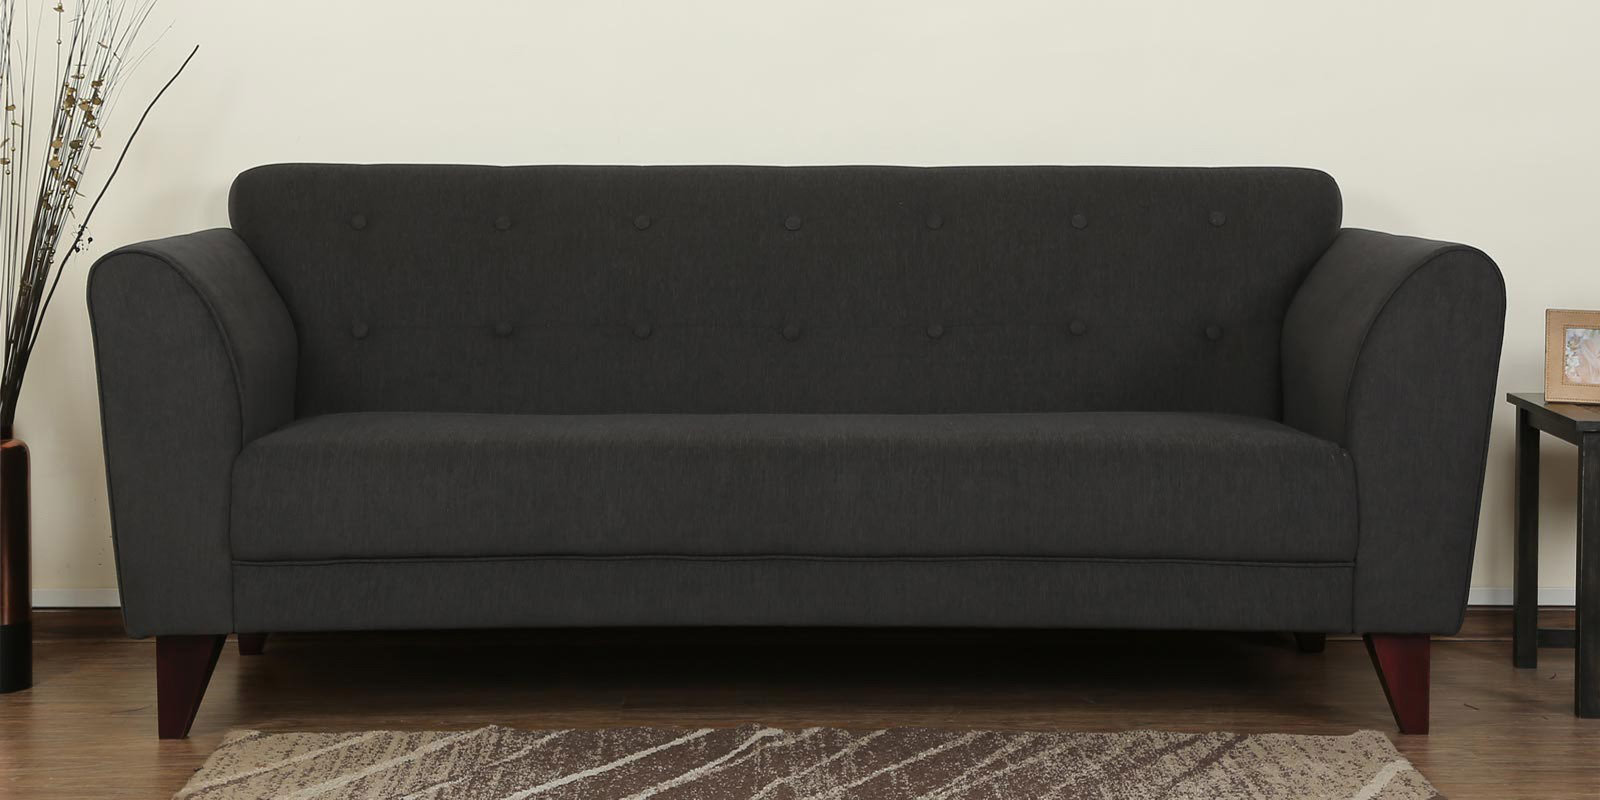Belem Three Seater Sofa in Charcoal Grey Color by CasaCraft: (80, 148, 1518, 717)
